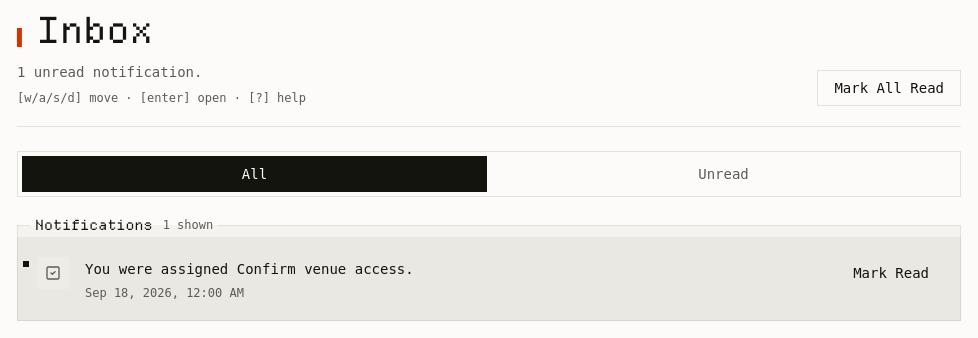
Test: NotificationsPage › marks a row read on the click, before the server answers
The image size is (978, 338).
Click the button "Mark Read": [891, 273] box [841, 257, 941, 289]
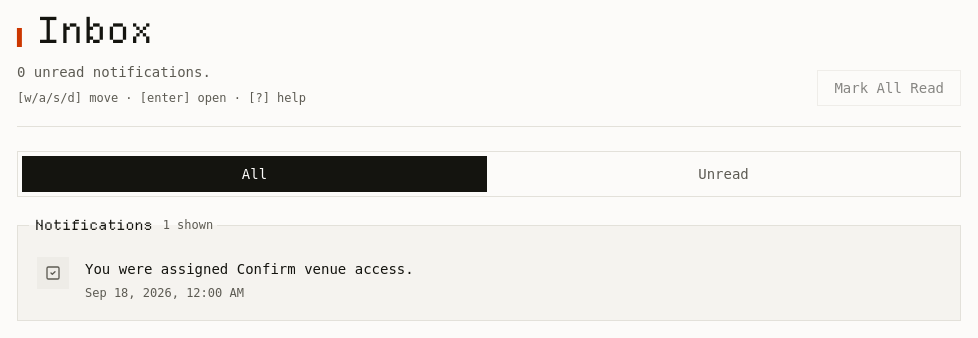
Check: the text "0 unread notifications." is shown, box [17, 64, 211, 80]
Check: the button "Mark Read" is gone
